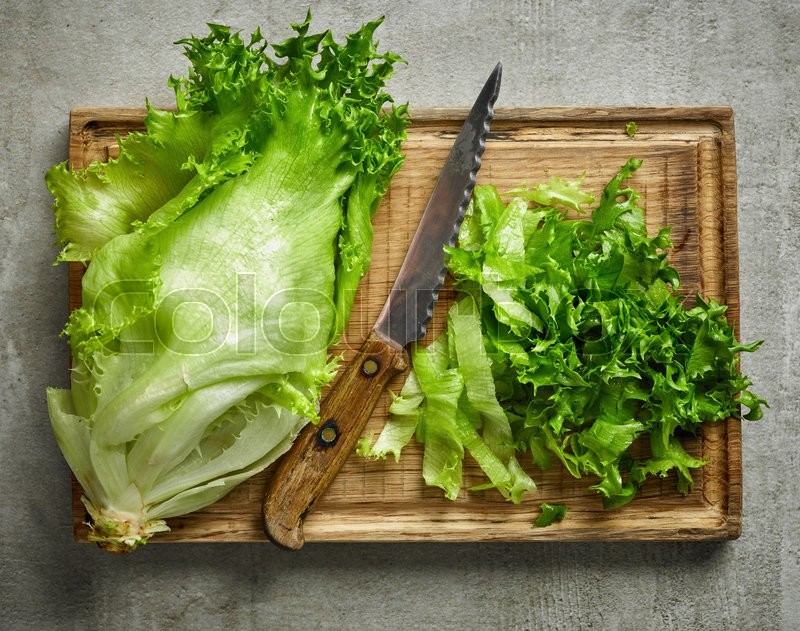chopped lettuce: (54, 33, 387, 544), (420, 194, 725, 494)
